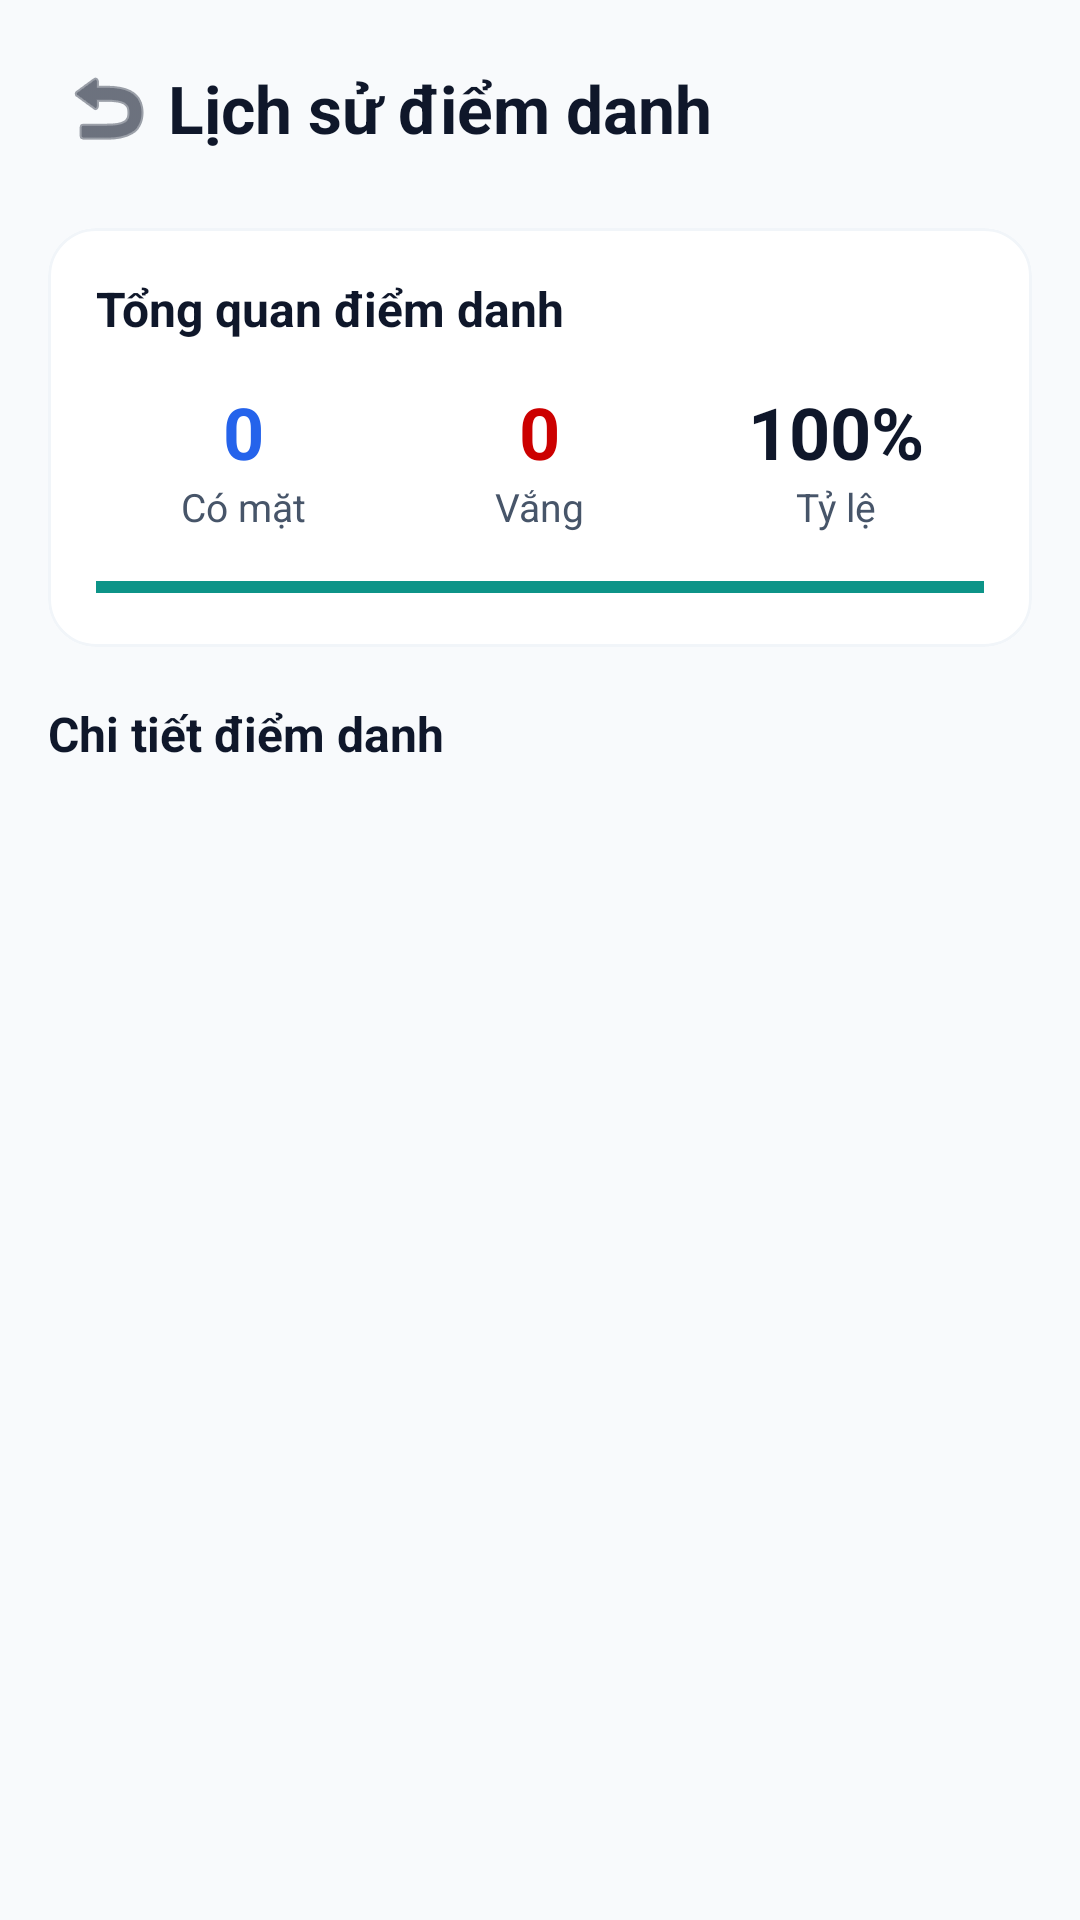

Icon bounding boxes for this 1080 × 1920 phone screenshot, format bbox(x1, y1, x2, y2):
Quay lại: bbox(75, 77, 144, 140)
